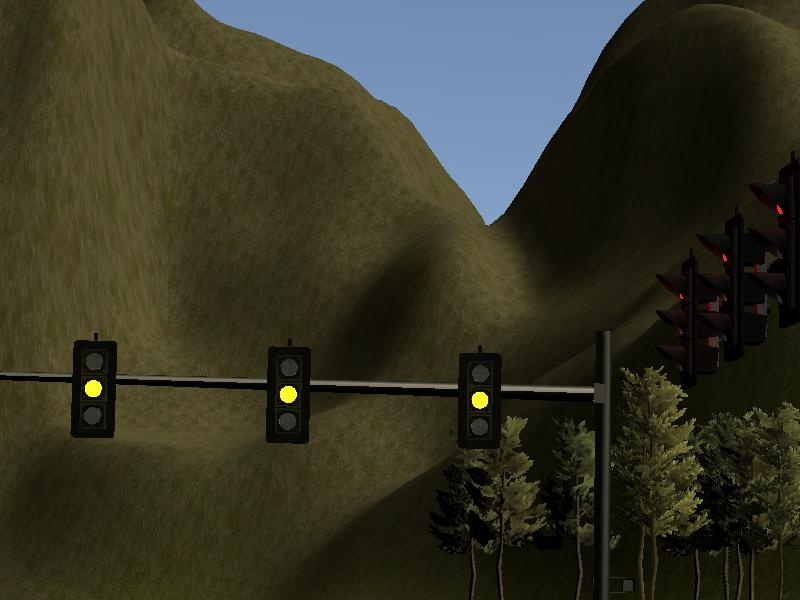YELLOW: (454, 355, 503, 454), (262, 346, 311, 445), (67, 337, 116, 436)
